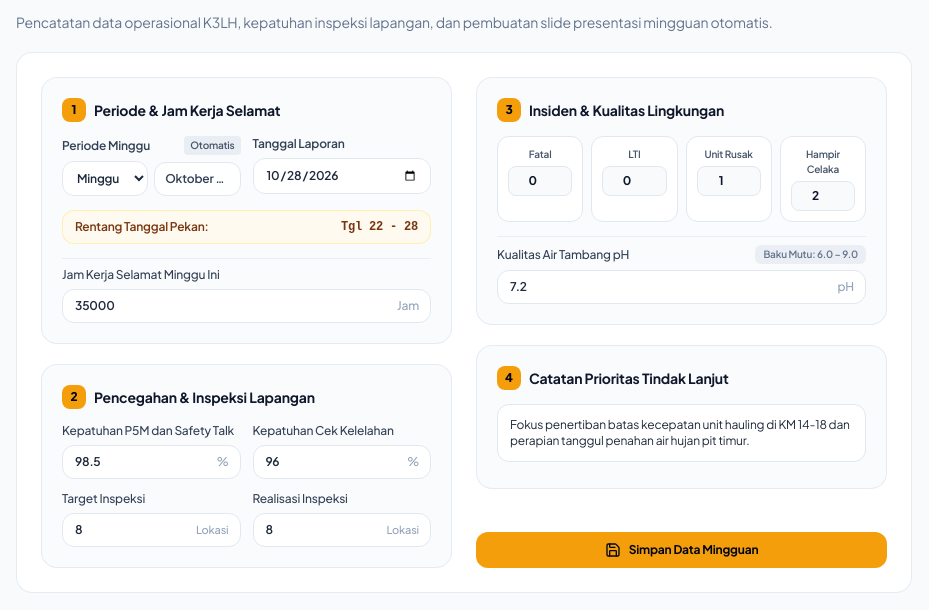
Test case: SHE Weekly & Monthly Entry Forms › allows manual override of week dropdown and marks it as Kustom
This screenshot has width=929, height=610.
Note: Ubah pilihan minggu manual ke Minggu 2
Select "Minggu 2" in the dropdown labelled "Periode Minggu": (105, 178) [62,161,148,196]
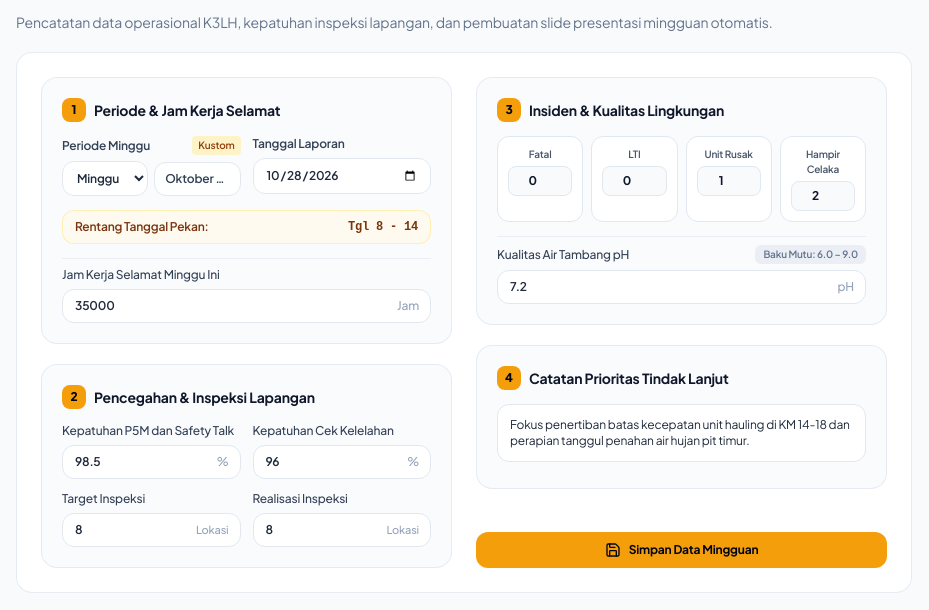
Expected: the text "Kustom" is shown, [192,136,240,155]
